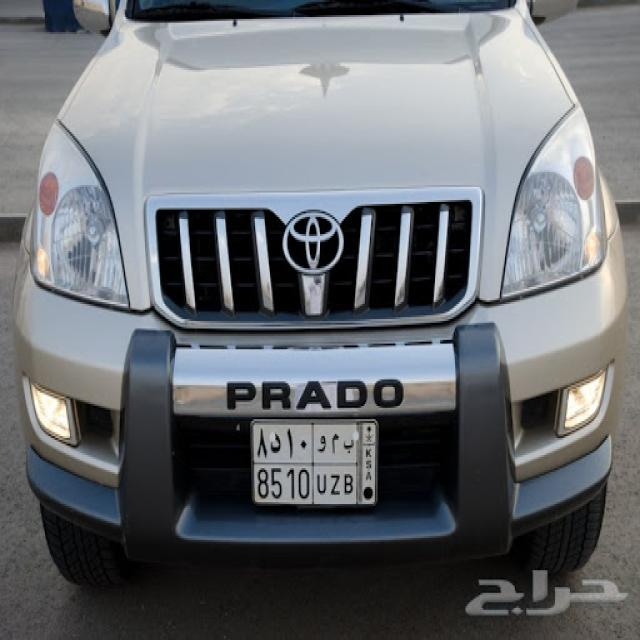license_plate: (249, 417, 380, 508)
